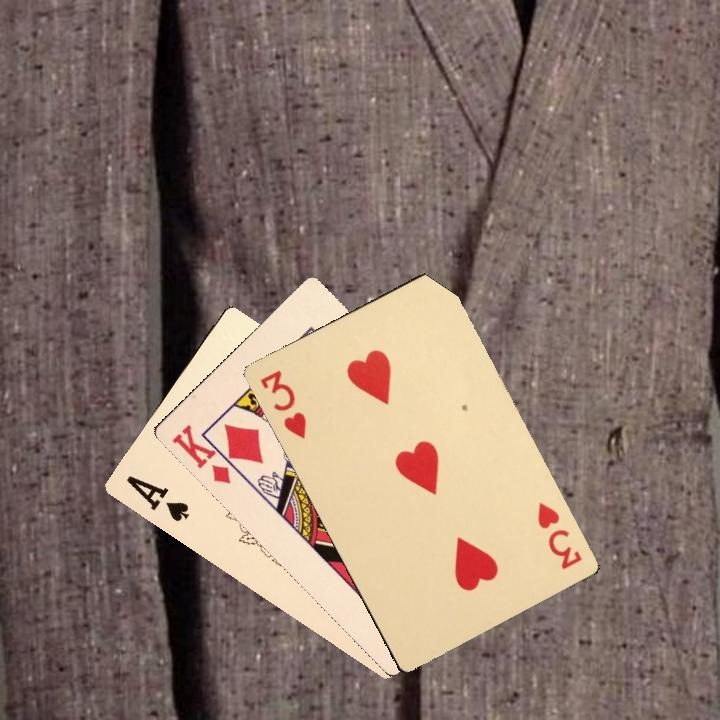3h: (256, 366, 309, 442), (533, 498, 585, 572)
As: (122, 471, 192, 525)
Kd: (168, 420, 242, 486)
